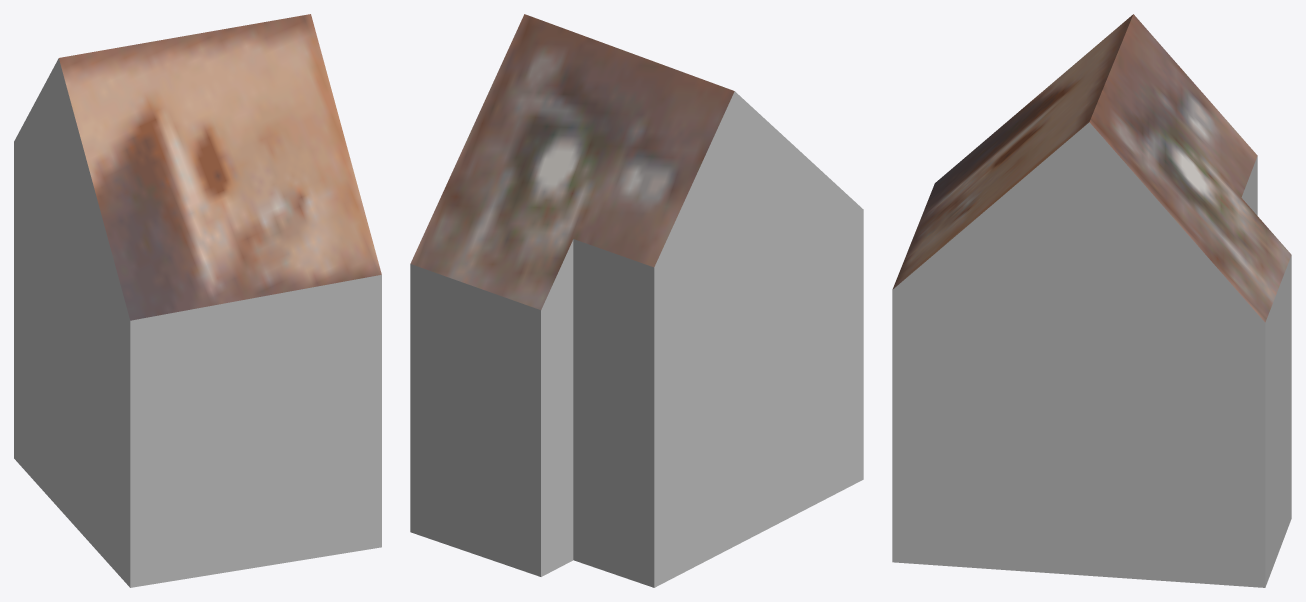
Rendered from DEBW_0010007Txbl.gltf.
The picture shows the model from 3 angles, left to right: view 1: azimuth 30°, elevation 25°; view 2: azimuth 150°, elevation 25°; view 3: azimuth 270°, elevation 25°; orthographic projection.
Parts seen in each view (by area): view 1: Z_UP; view 2: Z_UP; view 3: Z_UP.
Boxes of the visible parts, left/top/right/bottom form: Z_UP: left=14, top=14, right=381, bottom=587; Z_UP: left=410, top=14, right=863, bottom=587; Z_UP: left=892, top=14, right=1291, bottom=587.
Size of the model in its own units: 11.51 by 17.66 by 14.09.
2 materials, 1 textured.
